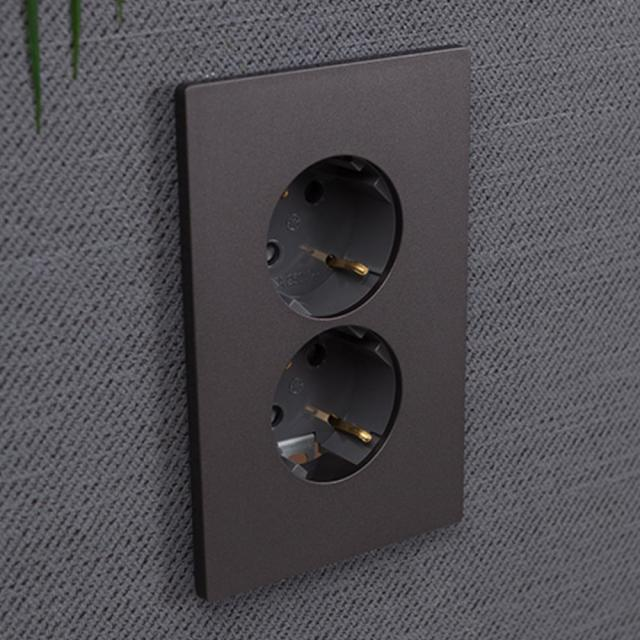typeb: (156, 85, 493, 601)
